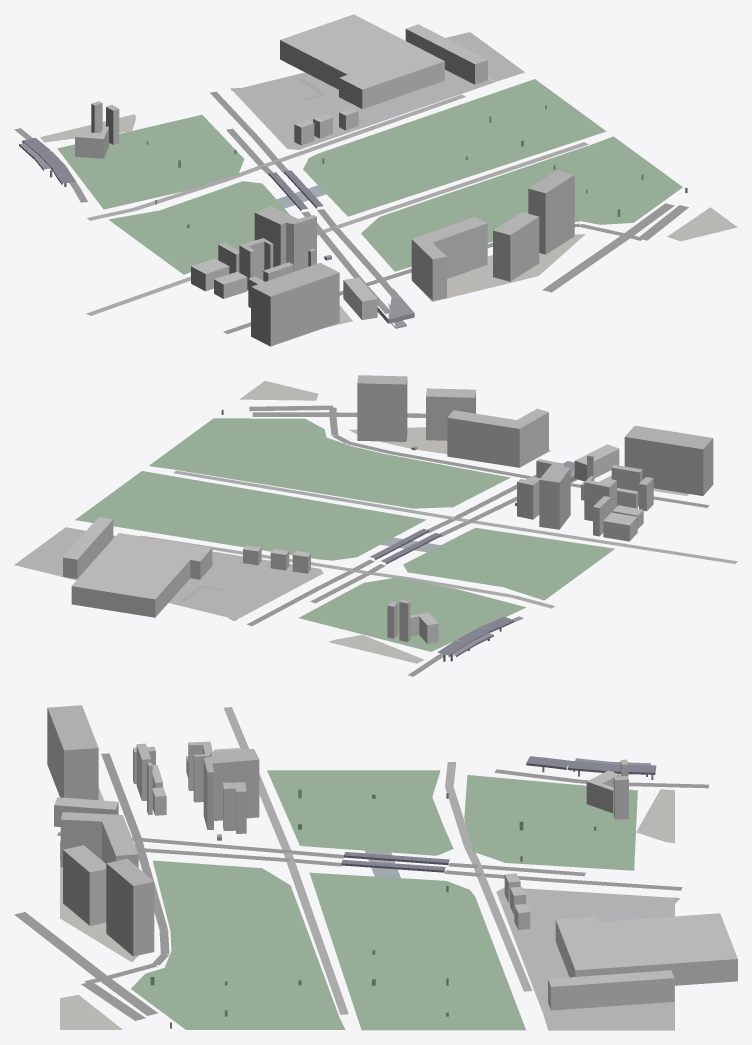
The picture shows the model from 3 angles, top to bottom: view 1: azimuth 30°, elevation 25°; view 2: azimuth 150°, elevation 25°; view 3: azimuth 270°, elevation 25°; orthographic projection. The views are drawn at different scales.
Size of the model in its own units: 622 by 81.64 by 589.
